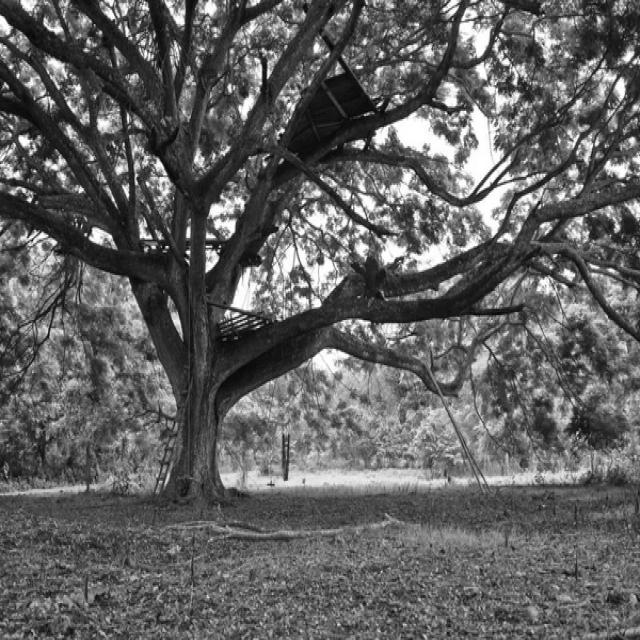Tree: (0, 0, 640, 502)
